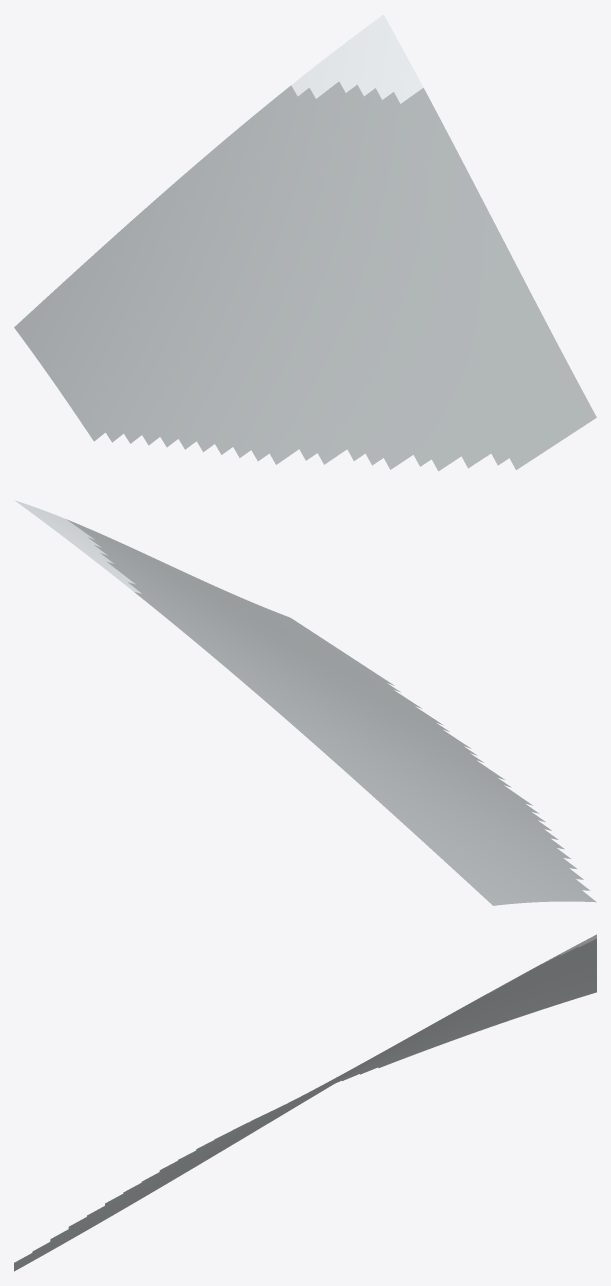
The model's file is alpine-6-8.glb.
3 renders of one model, top to bottom at view 1: azimuth 30°, elevation 25°; view 2: azimuth 150°, elevation 25°; view 3: azimuth 270°, elevation 25°, orthographic. The views are drawn at different scales.
Visible parts, largest first — view 1: alpine-6-8; view 2: alpine-6-8; view 3: alpine-6-8.
Boxes of the visible parts, x1,y1,x2,y2 form: alpine-6-8: [14, 14, 596, 471]; alpine-6-8: [14, 500, 596, 905]; alpine-6-8: [14, 934, 596, 1271].
Size of the model in its own units: 256 by 186 by 256.
Materials: 2 (2 with a texture image).
